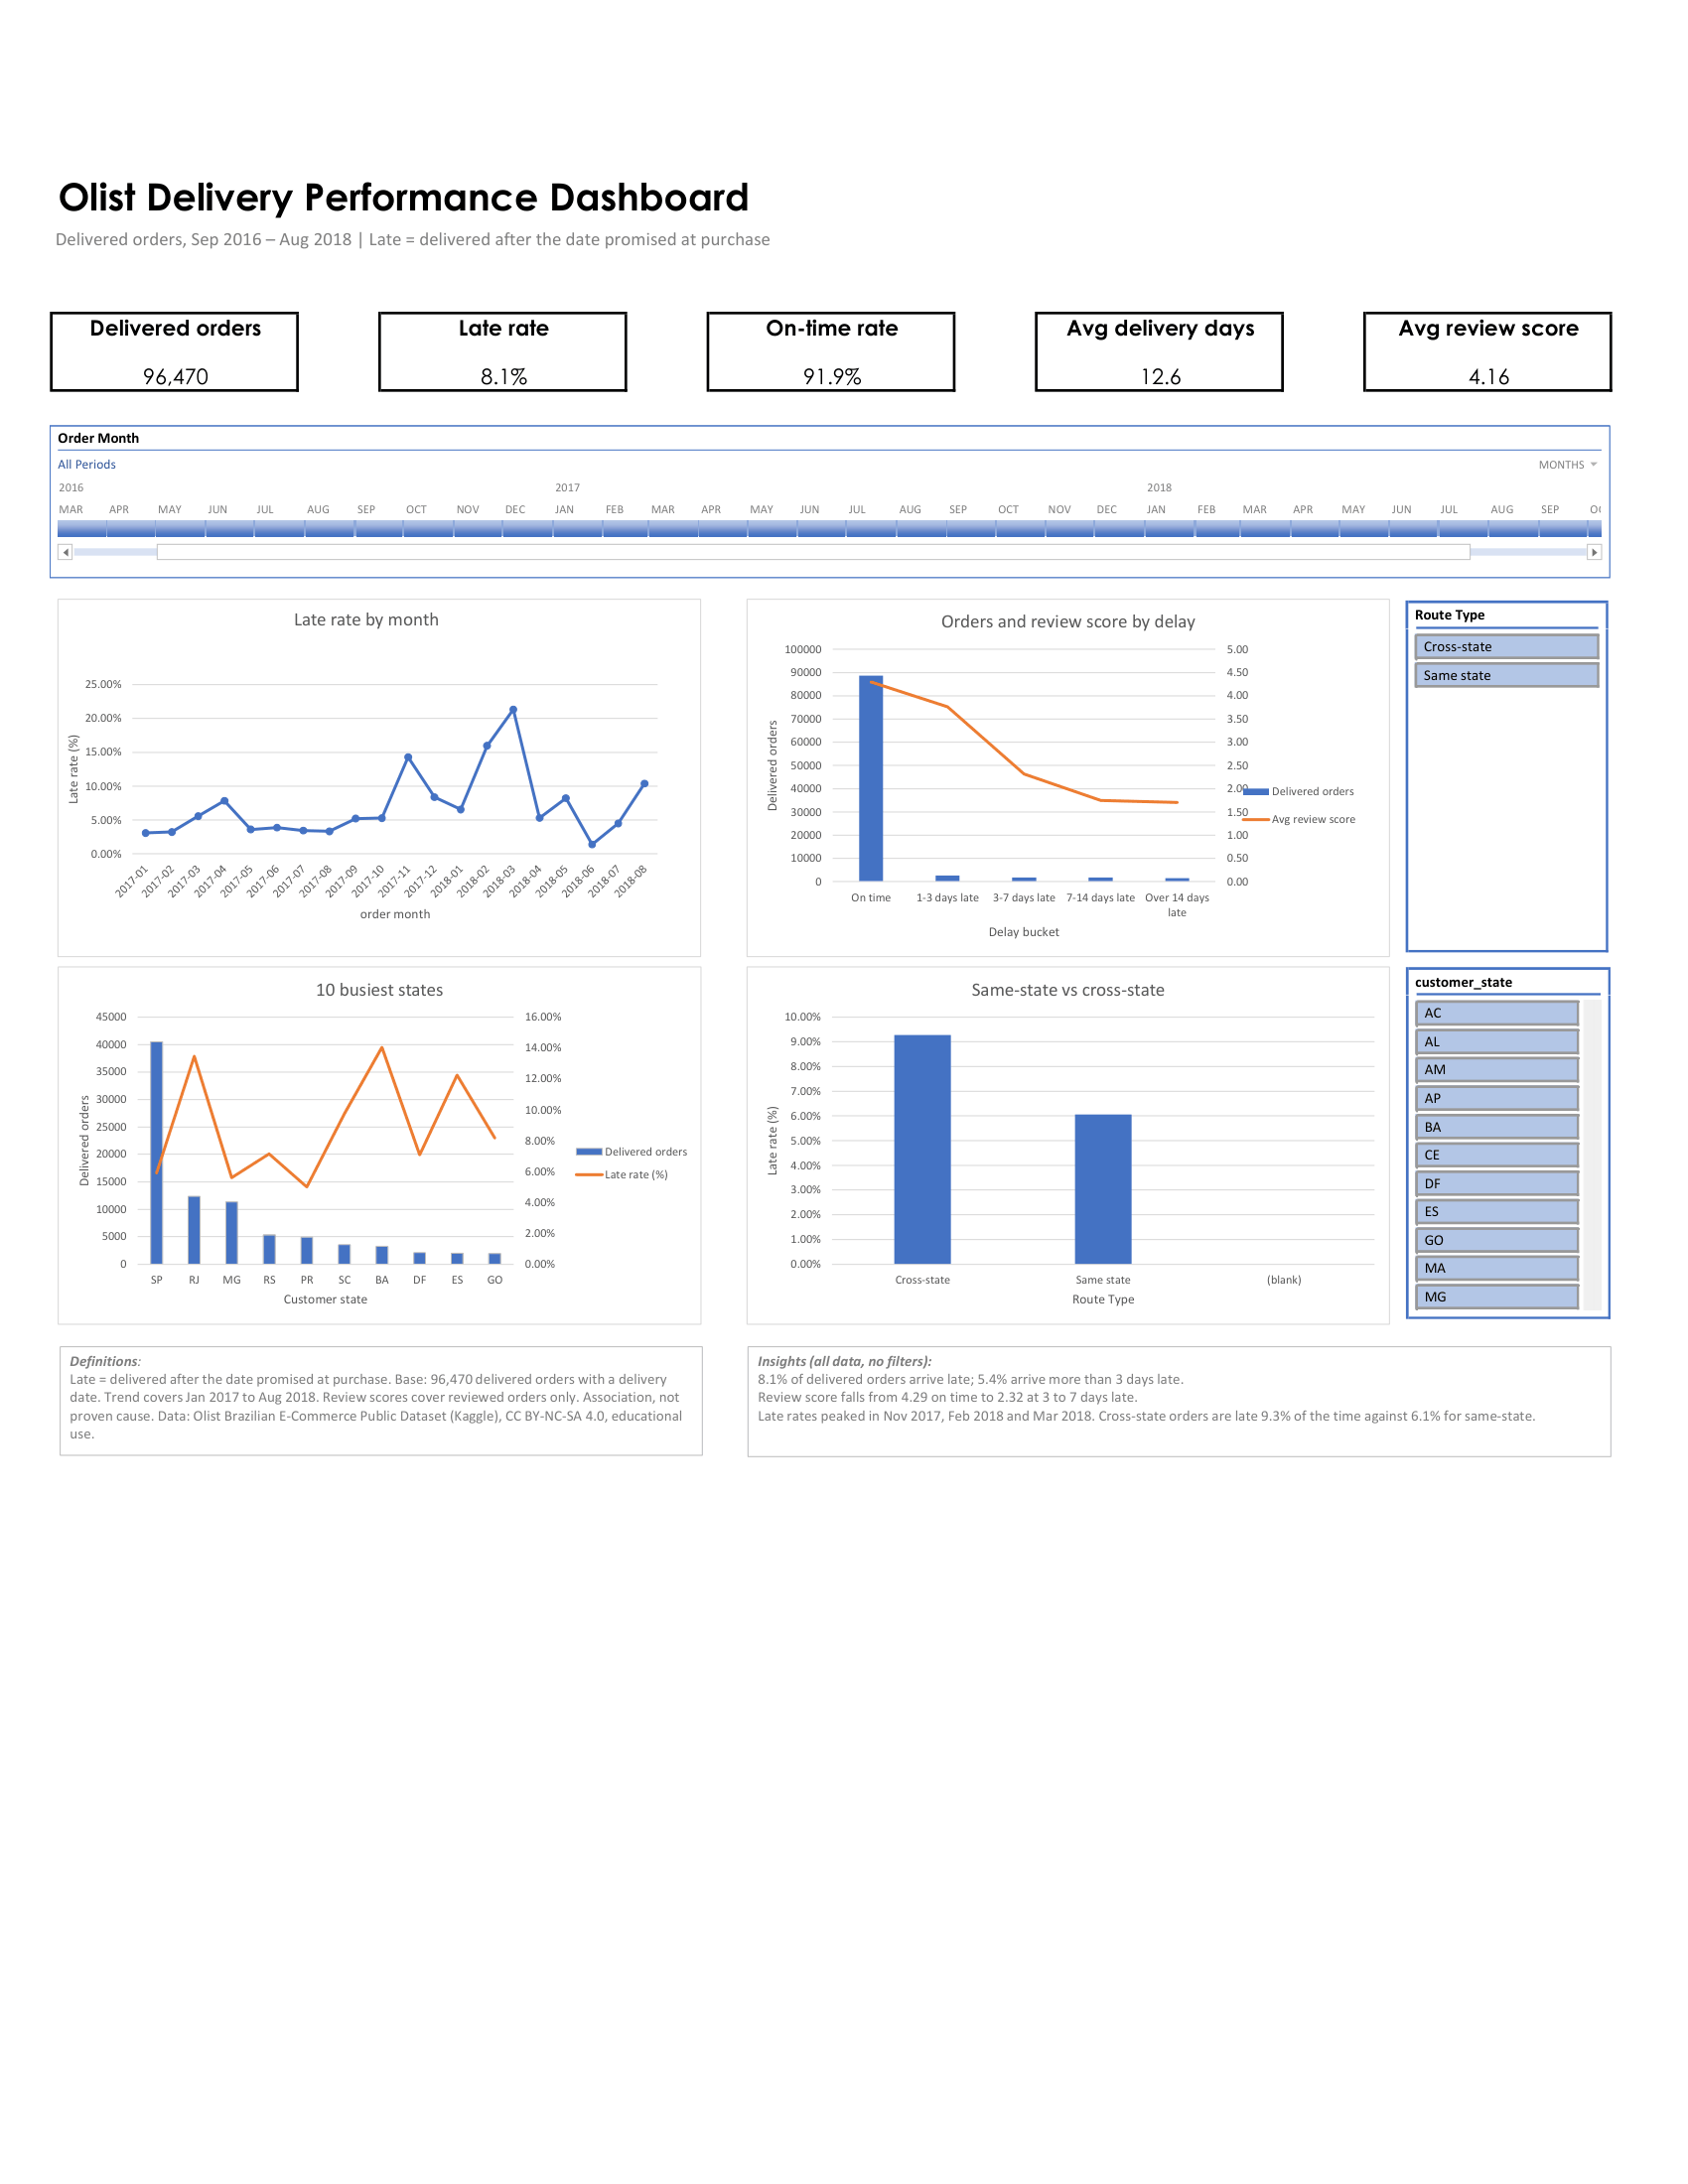

Layout of this report page (visuals, bound fields, positions):
{"tool":"powerbi","page":{"name":"Page 1","canvas":[1500,1440],"ordinal":0},"visuals":[{"type":"cardVisual","fields":{"Data":["Orders_Model.Delivered Orders"]},"box":[20,162,236,70],"z":0},{"type":"cardVisual","fields":{"Data":["Orders_Model.Late Rate"]},"box":[266,162,236,70],"z":1000},{"type":"cardVisual","fields":{"Data":["Orders_Model.On-time Rate"]},"box":[512,162,236,70],"z":2000},{"type":"cardVisual","fields":{"Data":["Orders_Model.Avg Delivery Days"]},"box":[758,162,232,70],"z":3000},{"type":"cardVisual","fields":{"Data":["Orders_Model.Avg Review Score"]},"box":[1004,162,236,70],"z":4000},{"type":"slicer","fields":{"Values":["Orders_Model.customer_state"]},"box":[1283.3,163.3,200,773.3],"z":5000},{"type":"slicer","fields":{"Values":["Orders_Model.RouteType"]},"box":[1283.3,993.3,200,273.3],"z":6000},{"type":"slicer","fields":{"Values":["Orders_Model.OrderMonth"]},"box":[20,242,1218,122],"z":7000},{"type":"lineChart","title":"Late rate by month","fields":{"Category":["Orders_Model.OrderMonth"],"Y":["Orders_Model.Late Rate"]},"box":[20,380,730,382.5],"z":8000},{"type":"lineClusteredColumnComboChart","title":"Orders and review score by delay","fields":{"Category":["Orders_Model.DelayBucket"],"Y":["Orders_Model.Delivered Orders"],"Y2":["Orders_Model.Avg Review Score"]},"box":[770,380,468,382],"z":9000},{"type":"lineClusteredColumnComboChart","title":"10 busiest states","fields":{"Category":["Orders_Model.customer_state"],"Y":["Orders_Model.Delivered Orders"],"Y2":["Orders_Model.Late Rate"]},"box":[20,772.5,730,382.5],"z":10000},{"type":"clusteredColumnChart","title":"Same-state vs cross-state late rate","fields":{"Category":["Orders_Model.RouteType"],"Y":["Orders_Model.Late Rate"]},"box":[770,772.5,470,382.5],"z":11000},{"type":"textbox","box":[20,36.7,1345,87.5],"z":12000},{"type":"textbox","box":[20,1185,736,100],"z":13000},{"type":"textbox","box":[770,1185,470,80],"z":14000}]}

Visuals, with their boxes on the page's 1500x1440 design canvas (x1, y1, x2, y2). These are canvas units, not pixel positions in the 1688x2184 screenshot, which may show the page scaled, cropped or inside an application window:
cardVisual - Orders_Model.Delivered Orders: 20, 162, 256, 232
cardVisual - Orders_Model.Late Rate: 266, 162, 502, 232
cardVisual - Orders_Model.On-time Rate: 512, 162, 748, 232
cardVisual - Orders_Model.Avg Delivery Days: 758, 162, 990, 232
cardVisual - Orders_Model.Avg Review Score: 1004, 162, 1240, 232
slicer - Orders_Model.customer_state: 1283, 163, 1483, 937
slicer - Orders_Model.RouteType: 1283, 993, 1483, 1267
slicer - Orders_Model.OrderMonth: 20, 242, 1238, 364
"Late rate by month" lineChart: 20, 380, 750, 762
"Orders and review score by delay" lineClusteredColumnComboChart: 770, 380, 1238, 762
"10 busiest states" lineClusteredColumnComboChart: 20, 772, 750, 1155
"Same-state vs cross-state late rate" clusteredColumnChart: 770, 772, 1240, 1155
textbox: 20, 37, 1365, 124
textbox: 20, 1185, 756, 1285
textbox: 770, 1185, 1240, 1265
